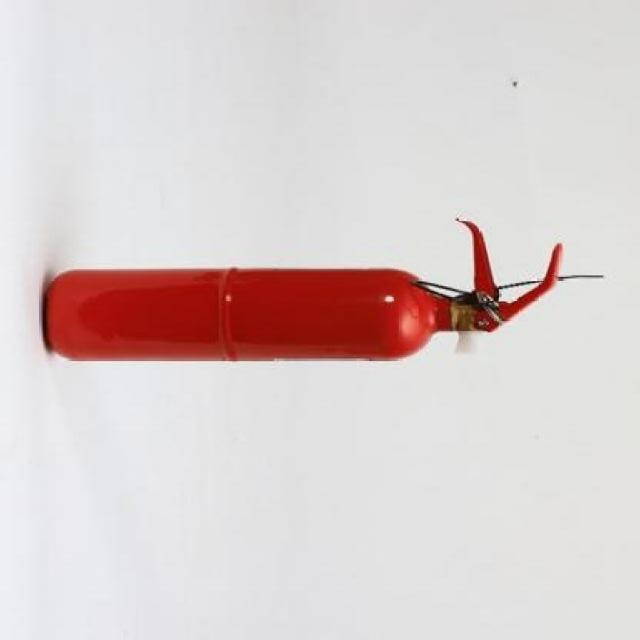fire extinguisher: (45, 217, 566, 361)
